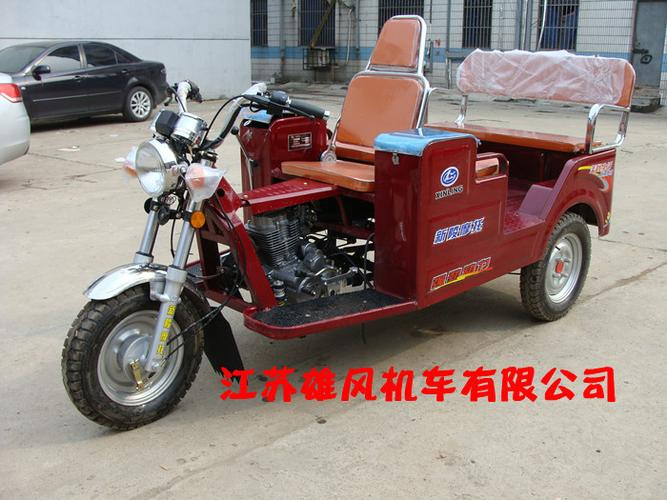empty: (54, 20, 635, 362)
